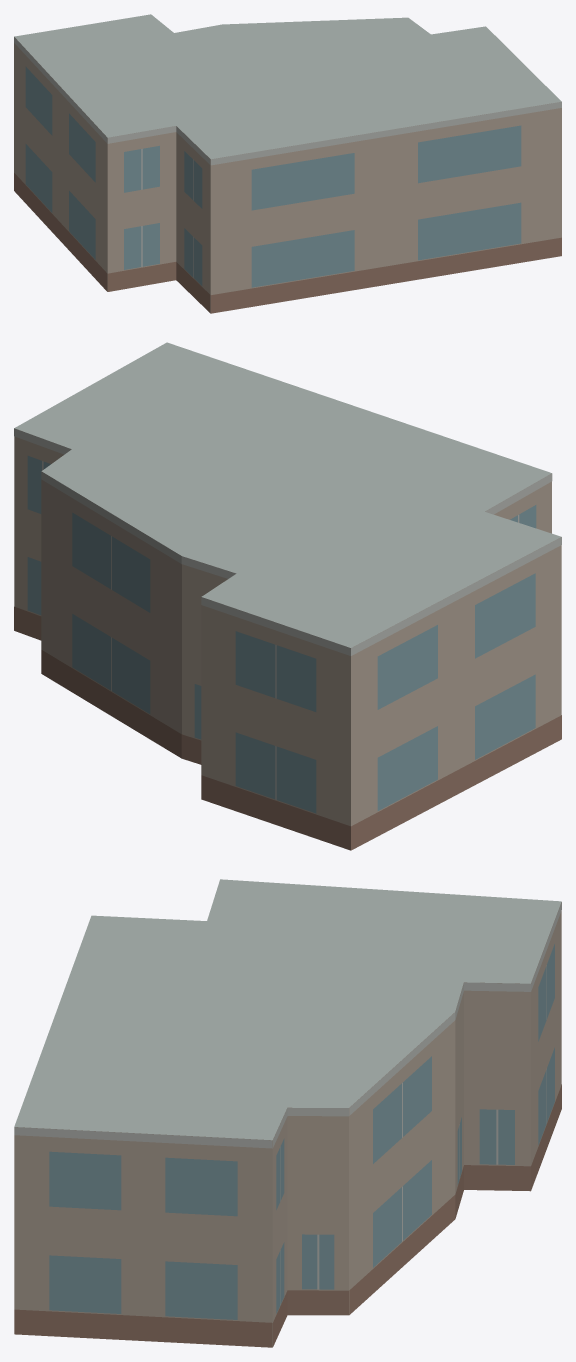
Rendered from survey-upis-32615532.glb.
3 views of the same model, one above another, from view 1: azimuth 30°, elevation 25°; view 2: azimuth 150°, elevation 25°; view 3: azimuth 270°, elevation 25° (orthographic). The views are drawn at different scales.
Parts seen in each view (by area): view 1: survey-upis-32615532.tmp; view 2: survey-upis-32615532.tmp; view 3: survey-upis-32615532.tmp.
Boxes of the visible parts, left/top/right/bottom form: survey-upis-32615532.tmp: left=14, top=14, right=561, bottom=313; survey-upis-32615532.tmp: left=14, top=342, right=561, bottom=850; survey-upis-32615532.tmp: left=14, top=879, right=561, bottom=1347.
Size of the model in its own units: 16.47 by 6.1 by 14.61.
